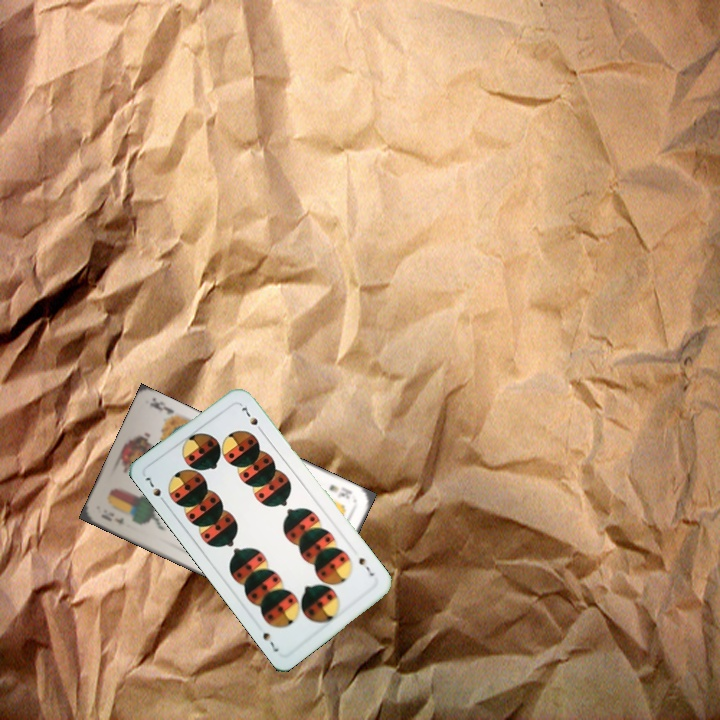EK: (325, 480, 355, 501), (97, 508, 126, 526)
S7: (140, 473, 169, 507), (354, 554, 376, 579)
